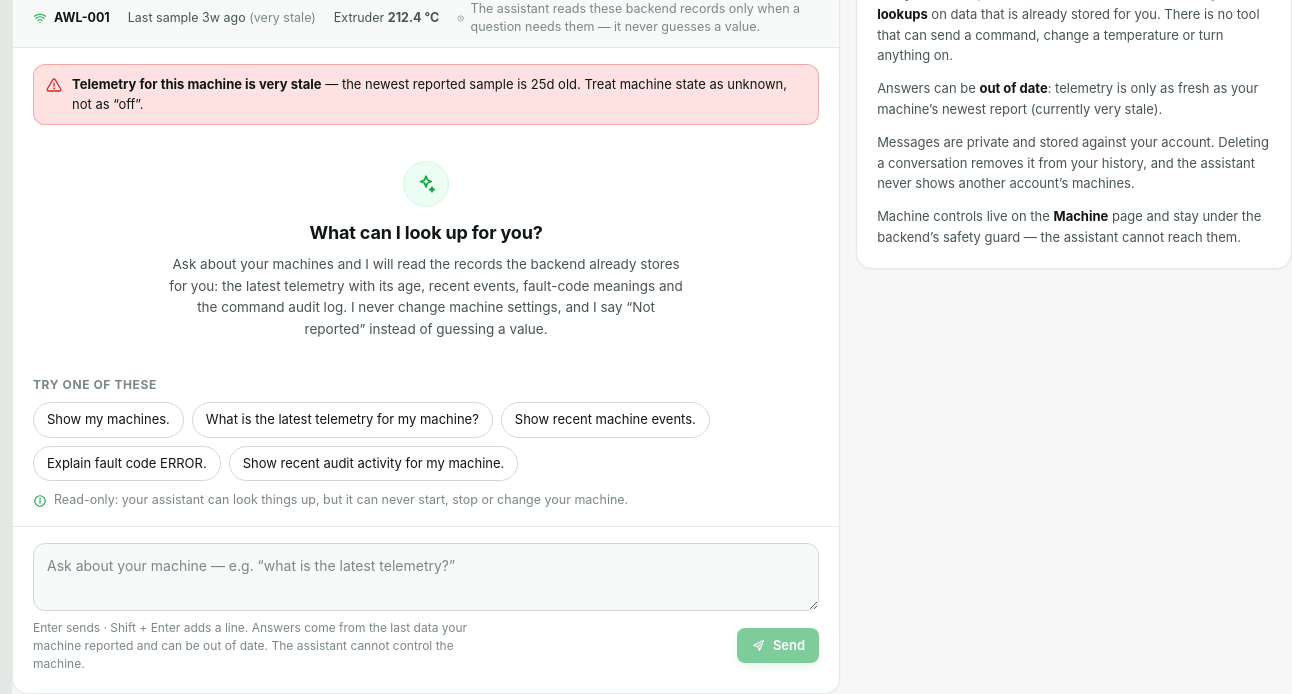
it: assistant page — sending a turn › POSTs the documented payload, locks the composer and renders the answer
The width and height of the screenshot is (1292, 694).
(page scrolled)
Replace the text in the text box named "ask the assistant" with "What is the latest telemetry for my machine?": (426, 577) [33, 543, 819, 610]
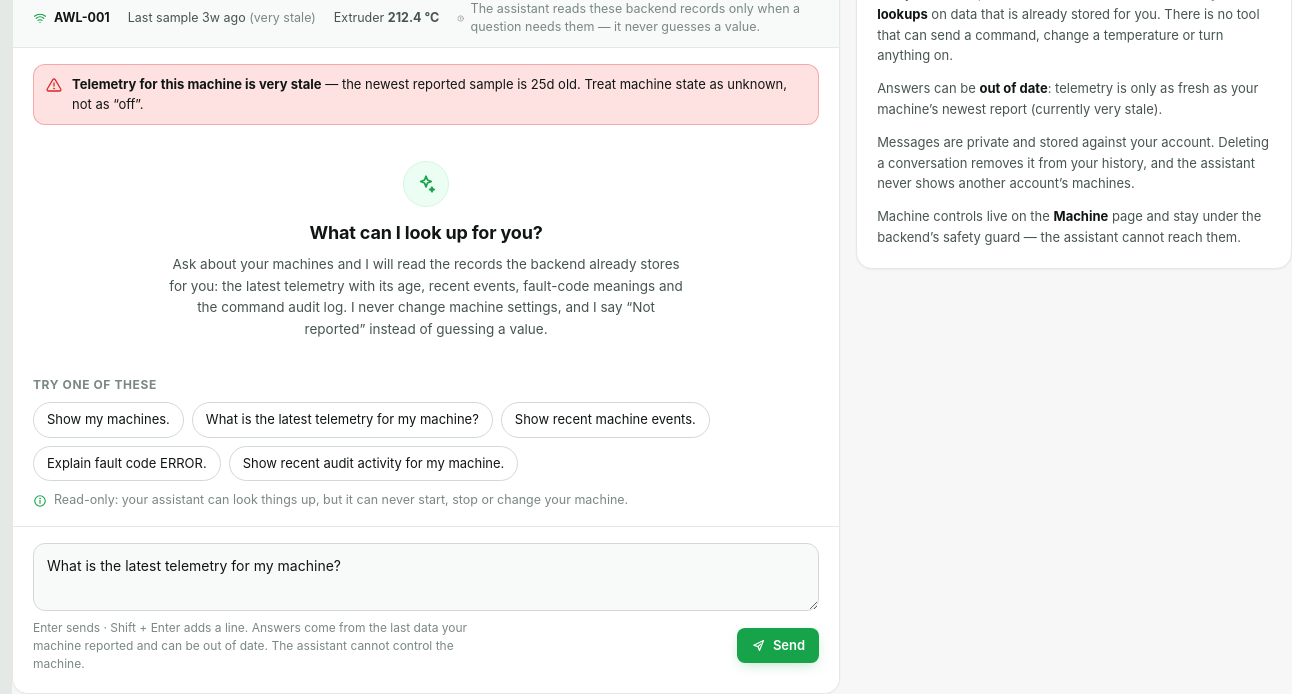
Click the button with aria-label "send message": (778, 646) [737, 628, 819, 663]
(page scrolled)
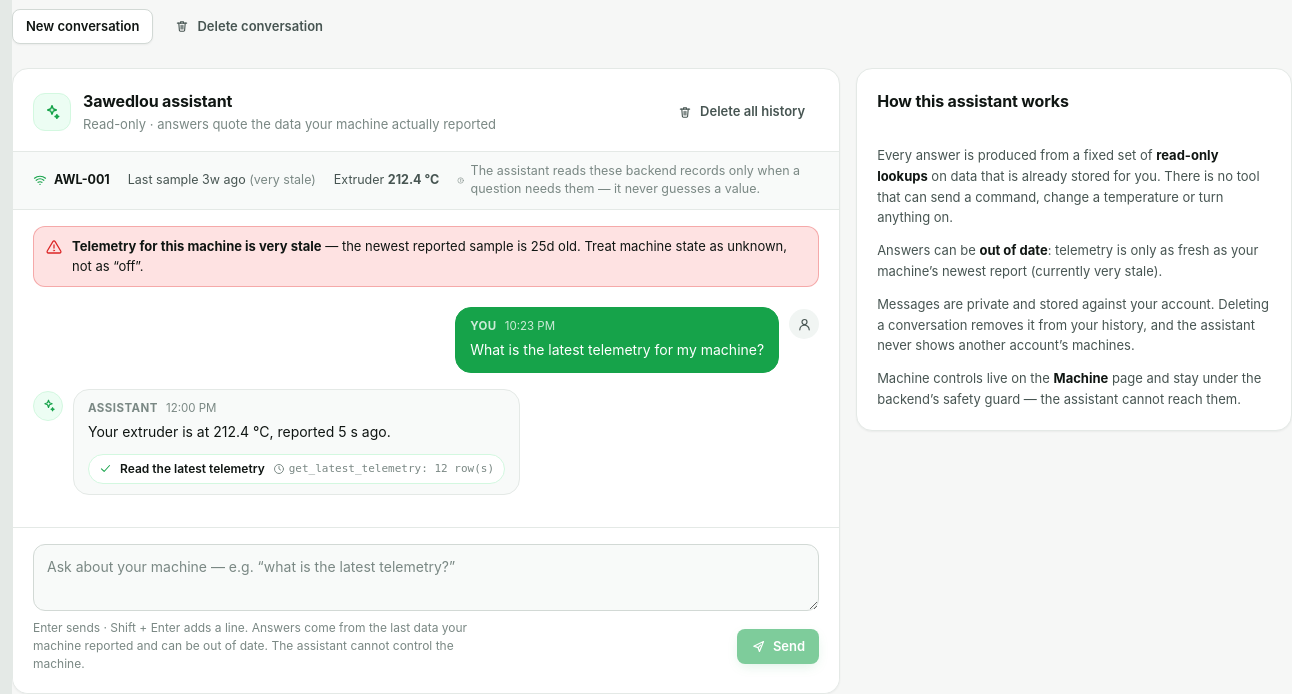
Now the text "Your extruder is at 212.4 °C, reported 5 s ago." is shown, box [88, 423, 391, 440]
Now the text "Read the latest telemetry" is shown, box [120, 460, 265, 478]
Now the text "get_latest_telemetry: 12 row(s)" is shown, box [273, 461, 494, 477]
